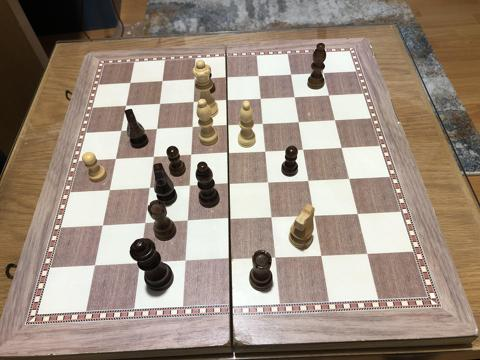xcorner: (288, 90, 301, 103), (297, 142, 310, 155), (343, 171, 356, 184), (222, 177, 235, 190), (103, 183, 116, 196), (156, 75, 168, 88), (124, 77, 137, 89), (323, 88, 335, 101), (254, 92, 267, 104), (153, 98, 166, 110), (260, 144, 272, 157), (222, 146, 234, 159), (184, 148, 196, 161), (147, 150, 159, 163), (110, 152, 122, 165), (303, 173, 315, 186), (263, 175, 275, 188), (183, 179, 195, 192), (143, 181, 155, 194), (352, 206, 364, 219), (309, 208, 321, 221), (266, 210, 278, 223), (223, 213, 236, 225), (316, 248, 328, 261), (270, 250, 282, 263), (224, 252, 236, 265), (179, 254, 191, 267), (317, 66, 329, 78), (285, 68, 297, 80), (252, 70, 264, 82), (220, 72, 232, 84), (188, 74, 200, 86), (221, 94, 233, 106), (187, 96, 199, 108), (120, 100, 132, 112), (329, 113, 341, 125), (293, 115, 305, 127), (257, 117, 269, 129), (221, 119, 233, 131), (186, 121, 198, 133), (150, 123, 162, 135), (115, 125, 127, 137), (336, 141, 348, 153), (181, 215, 193, 227), (139, 217, 151, 229), (97, 219, 109, 231), (362, 246, 374, 258), (134, 257, 146, 269), (89, 259, 101, 271)
